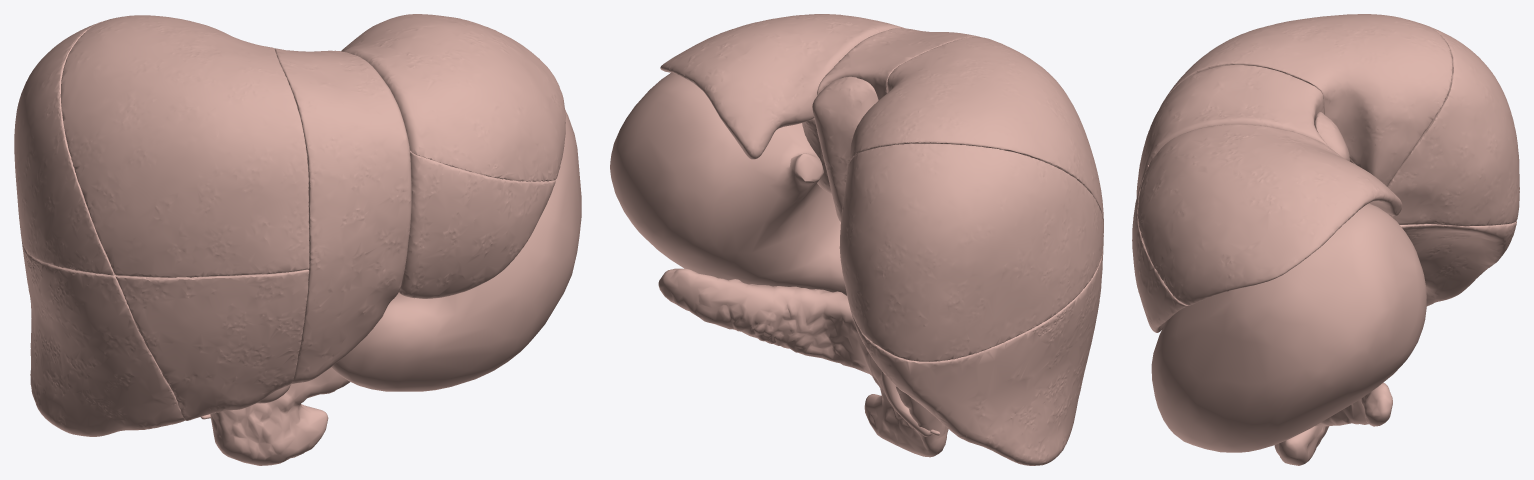
File: stomach-accessory.glb
3 views of the same model, side by side, from view 1: azimuth 30°, elevation 25°; view 2: azimuth 150°, elevation 25°; view 3: azimuth 270°, elevation 25° (orthographic). The views are drawn at different scales.
Parts seen in each view (by area): view 1: bp3d_FMA15746_FJ2824, bp3d_FMA15742_FJ2820, bp3d_FMA15739_FJ2818, bp3d_FMA7148_FJ2564, bp3d_FMA15743_FJ2821, bp3d_FMA15744_FJ2822, bp3d_FMA15741_FJ2819, bp3d_FMA15746_FJ2823, bp3d_FMA7198_FJ1895; view 2: bp3d_FMA15746_FJ2823, bp3d_FMA7148_FJ2564, bp3d_FMA15746_FJ2824, bp3d_FMA15744_FJ2822, bp3d_FMA15739_FJ2818, bp3d_FMA7198_FJ1895, bp3d_FMA13365_FJ2816, bp3d_FMA15742_FJ2820, bp3d_FMA14668_FJ3079, bp3d_FMA15741_FJ2819; view 3: bp3d_FMA7148_FJ2564, bp3d_FMA15739_FJ2818, bp3d_FMA15746_FJ2824, bp3d_FMA15746_FJ2823, bp3d_FMA15742_FJ2820, bp3d_FMA15744_FJ2822, bp3d_FMA7198_FJ1895, bp3d_FMA15741_FJ2819, bp3d_FMA13365_FJ2816.
Boxes of the visible parts, x1,y1,x2,y2 form: bp3d_FMA15746_FJ2824: (60, 15, 309, 277); bp3d_FMA15742_FJ2820: (274, 48, 411, 384); bp3d_FMA15739_FJ2818: (341, 14, 565, 181); bp3d_FMA7148_FJ2564: (331, 109, 581, 391); bp3d_FMA15743_FJ2821: (115, 269, 309, 420); bp3d_FMA15744_FJ2822: (22, 242, 185, 436); bp3d_FMA15741_FJ2819: (399, 151, 555, 298); bp3d_FMA15746_FJ2823: (14, 21, 114, 275); bp3d_FMA7198_FJ1895: (210, 367, 349, 465); bp3d_FMA15746_FJ2823: (839, 143, 1103, 361); bp3d_FMA7148_FJ2564: (610, 72, 846, 295); bp3d_FMA15746_FJ2824: (849, 37, 1103, 232); bp3d_FMA15744_FJ2822: (851, 245, 1103, 465); bp3d_FMA15739_FJ2818: (660, 14, 904, 159); bp3d_FMA7198_FJ1895: (658, 268, 948, 457); bp3d_FMA13365_FJ2816: (812, 76, 878, 221); bp3d_FMA15742_FJ2820: (817, 28, 980, 100); bp3d_FMA14668_FJ3079: (881, 370, 931, 436); bp3d_FMA15741_FJ2819: (802, 118, 831, 194); bp3d_FMA7148_FJ2564: (1151, 203, 1426, 452); bp3d_FMA15739_FJ2818: (1138, 124, 1402, 305); bp3d_FMA15746_FJ2824: (1160, 14, 1452, 186); bp3d_FMA15746_FJ2823: (1387, 24, 1519, 226); bp3d_FMA15742_FJ2820: (1136, 65, 1328, 197); bp3d_FMA15744_FJ2822: (1400, 221, 1516, 306); bp3d_FMA7198_FJ1895: (1274, 382, 1392, 465); bp3d_FMA15741_FJ2819: (1132, 163, 1188, 332); bp3d_FMA13365_FJ2816: (1314, 112, 1350, 161).
Size of the model in its own units: 0.2206 by 0.1788 by 0.1591.
